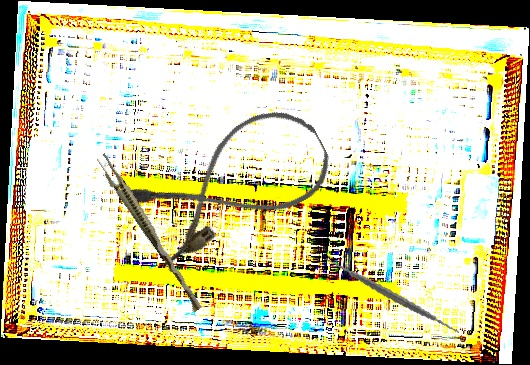Cannula: (119, 94, 342, 272)
Spatula Surgical: (324, 227, 461, 364)
Tissue Forceps: (92, 152, 208, 313)
